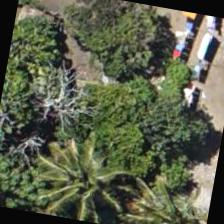Kelapa_Sawit: (33, 129, 137, 223)
